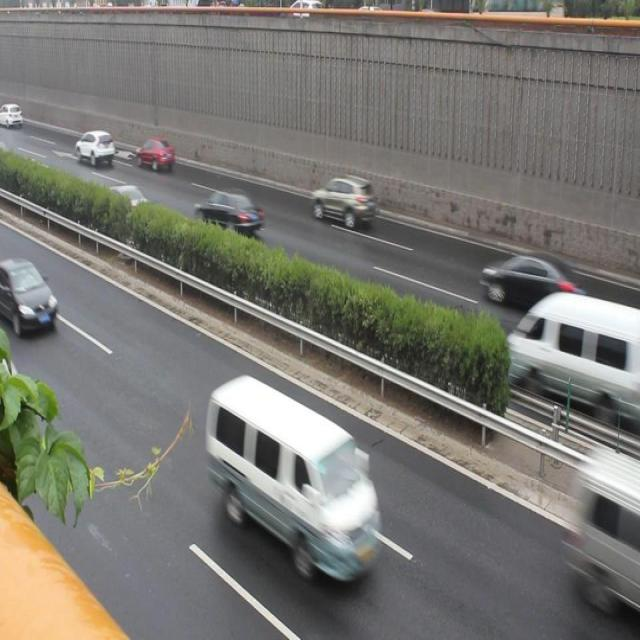car: (480, 247, 583, 315), (1, 255, 62, 341), (306, 170, 376, 233), (195, 183, 264, 245), (100, 176, 151, 225), (74, 128, 119, 167), (134, 135, 174, 178)
truck: (203, 372, 375, 587), (508, 294, 640, 418), (558, 443, 640, 612)
